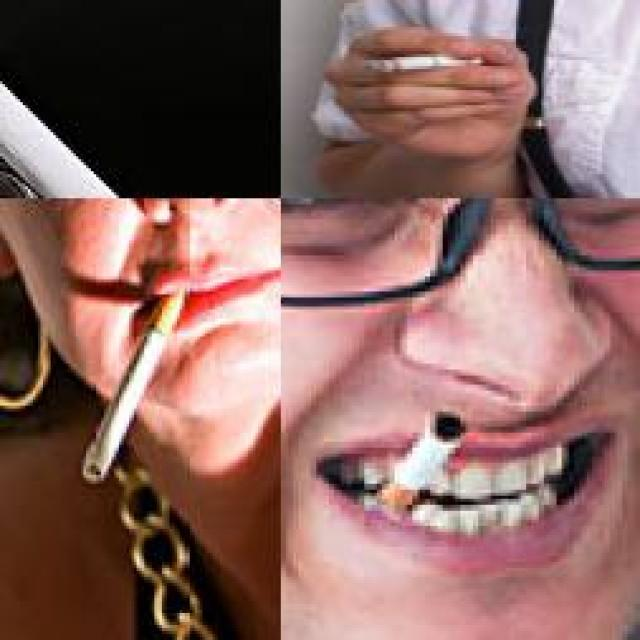smoking: (0, 39, 278, 195), (80, 288, 186, 484), (358, 401, 472, 500), (350, 51, 492, 72)
